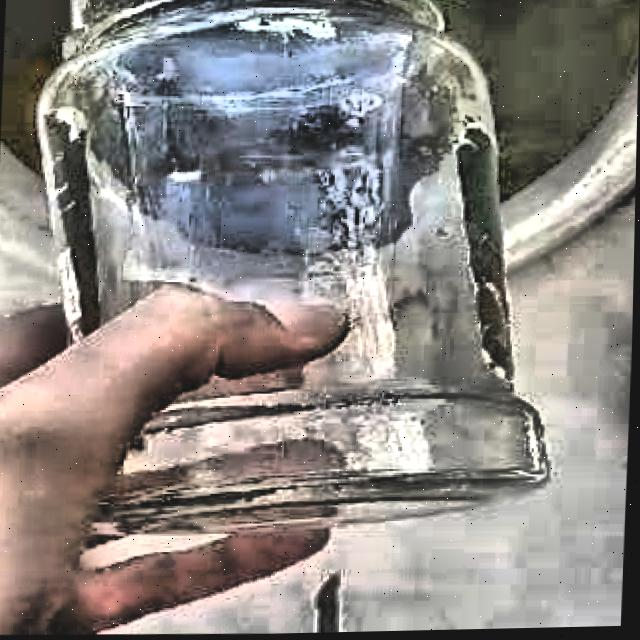glass: (36, 0, 551, 534)
